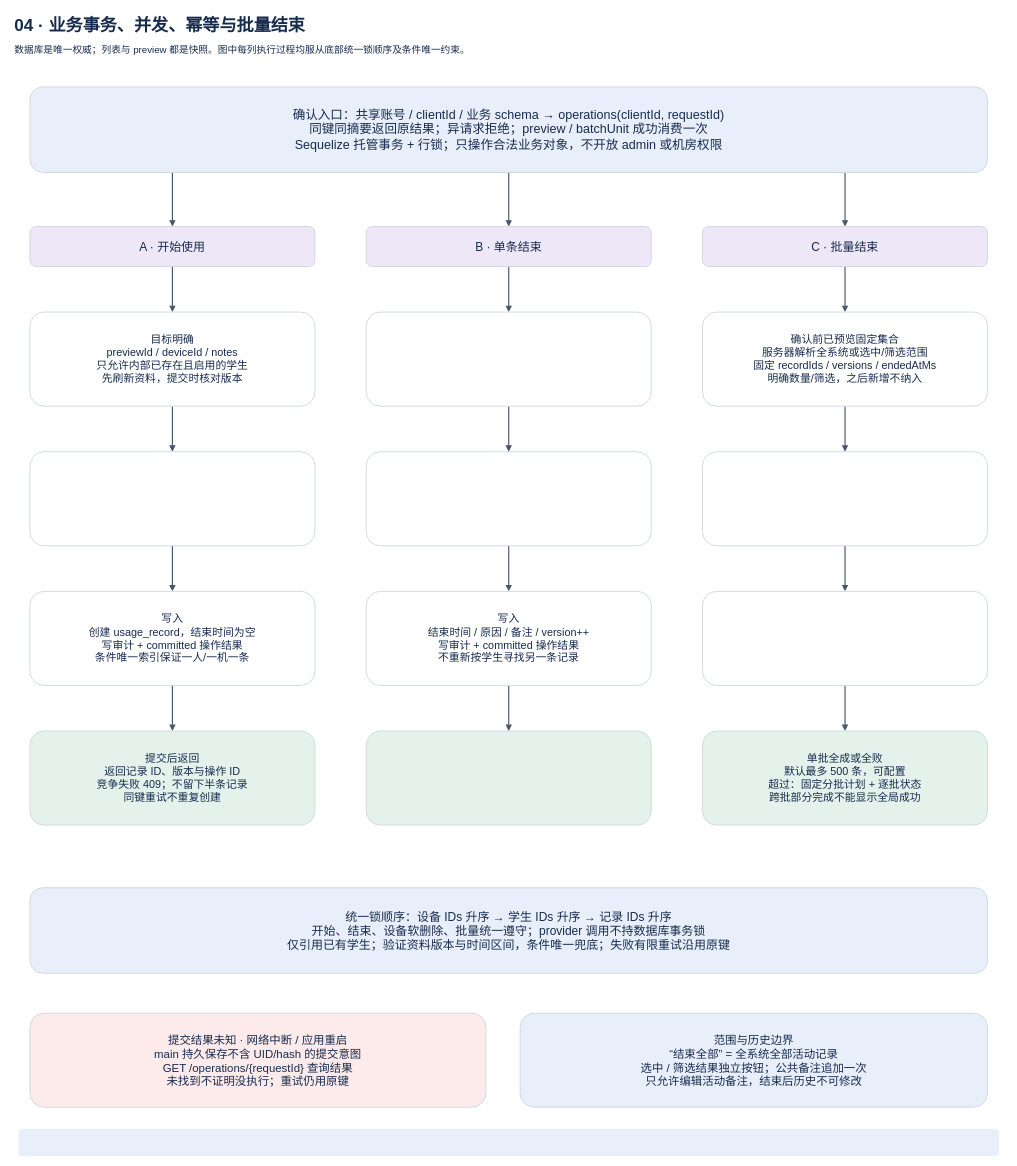
Some shapes in this 1017 by 1166 pixel diagram are drawn without their labels. The box of each missing label's shape, as (x1, y1, x2, y2) in pixels:
写入与公共备注 空备注：保留每条原文 非空：原文 + 换行 + 批量结束备注 同事务审计 / batchId / 操作结果: (702, 591, 988, 686)
提交后返回 同键重复：返回原结果 其他键已结束/改版：409 不静默覆盖刚编辑的备注: (366, 730, 651, 825)
显式确认 → 单批事务 按固定 ID 排序取锁并重验每条 任一变更：整批 409 回滚 过期/重启失效须重新预览: (702, 451, 988, 546)
目标明确 recordId + expectedVersion 预览候选结束时间 / 已有备注 手动结束需显式确认: (366, 311, 651, 406)
资料刷新在刷卡阶段独立提交；业务只写已存在学生的使用记录。设备可编辑/软删除，历史只读。: (18, 1129, 999, 1156)
锁定与验证 先读关联 ID，按统一顺序取锁 重验关联、权限、版本、仍活动 校验结束时间不早于开始: (366, 451, 651, 546)
锁定与验证 设备可分配；学生缓存版本有效 刷卡阶段已完成 API 查询和缓存写入 仅创建使用记录，失败整笔回滚: (29, 451, 315, 546)
